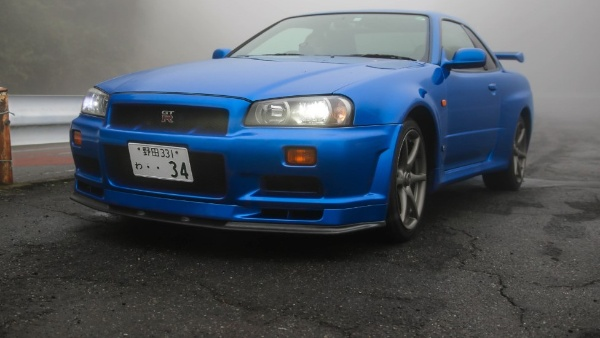licence: (126, 139, 195, 181)
